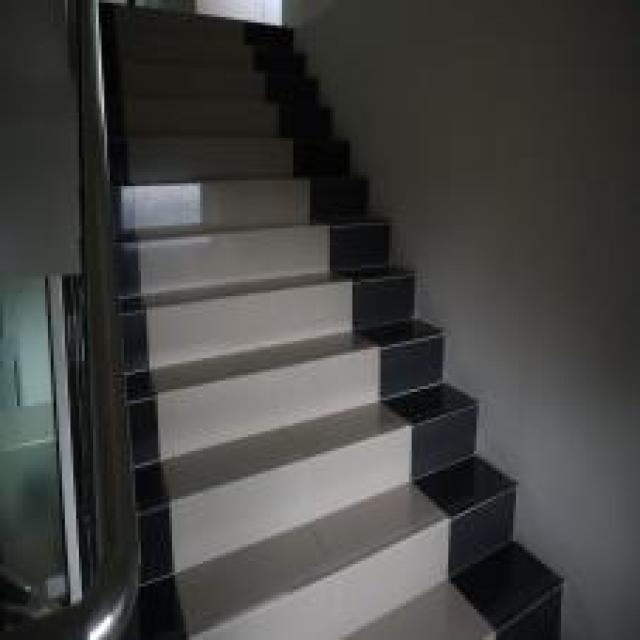upstair: (124, 17, 423, 640)
